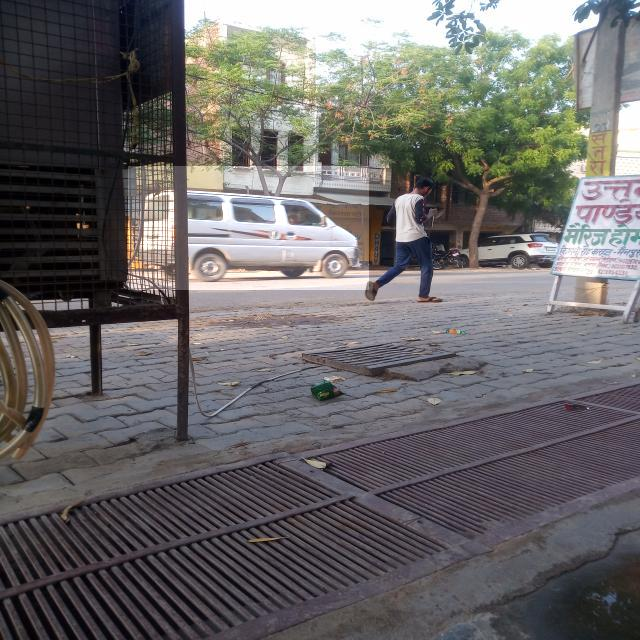Travller: (128, 166, 369, 290)
